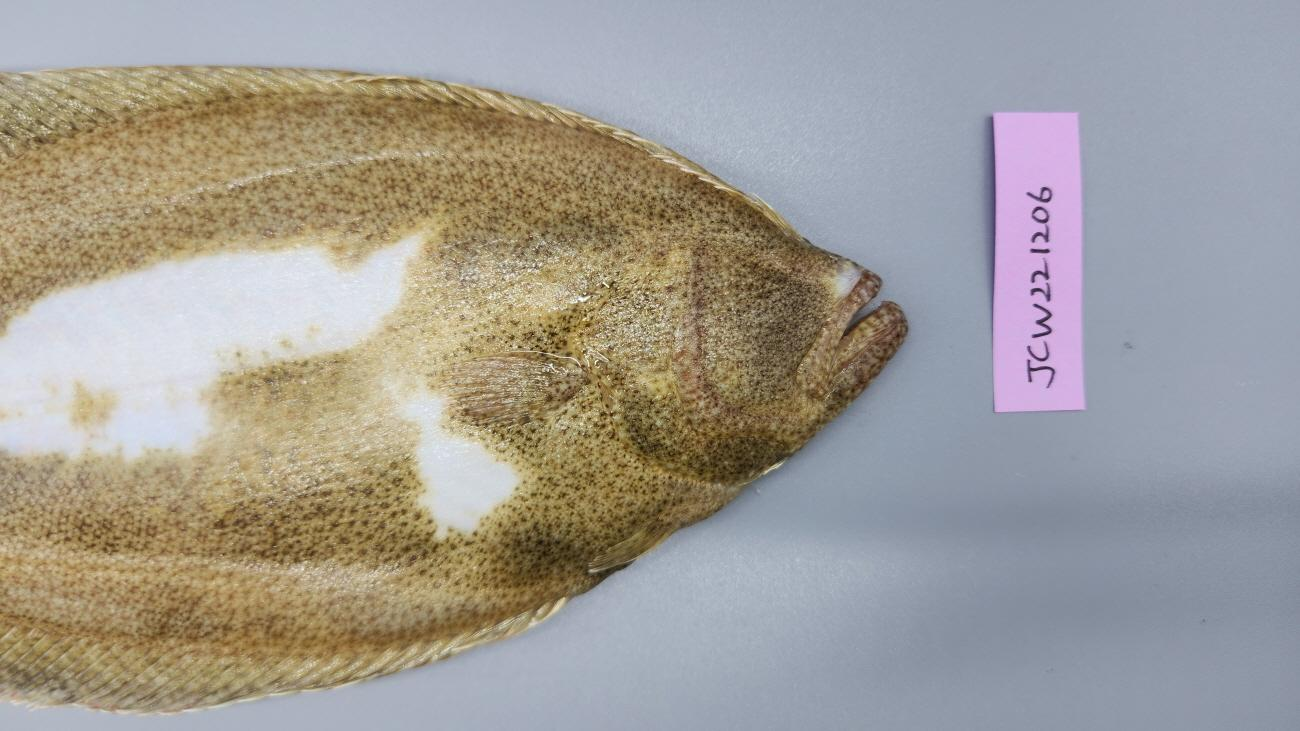POOUN: (0, 64, 908, 717)
